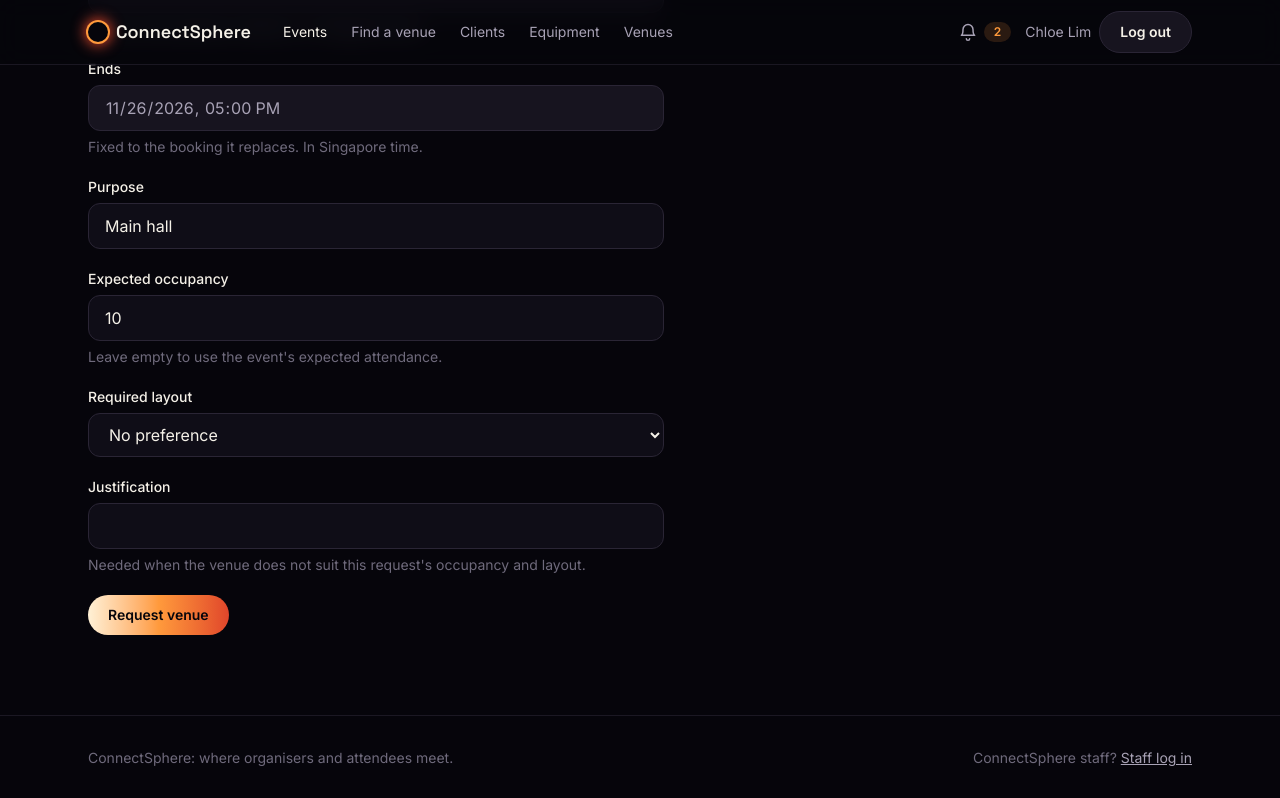
Test: SCRUM-92 raising a replacement for a flagged arrangement (AC6) › shows the backend’s own words for its 409 on the event
(page scrolled)
Click the button "Request venue": (158, 615) [88,595,229,635]
(page scrolled)
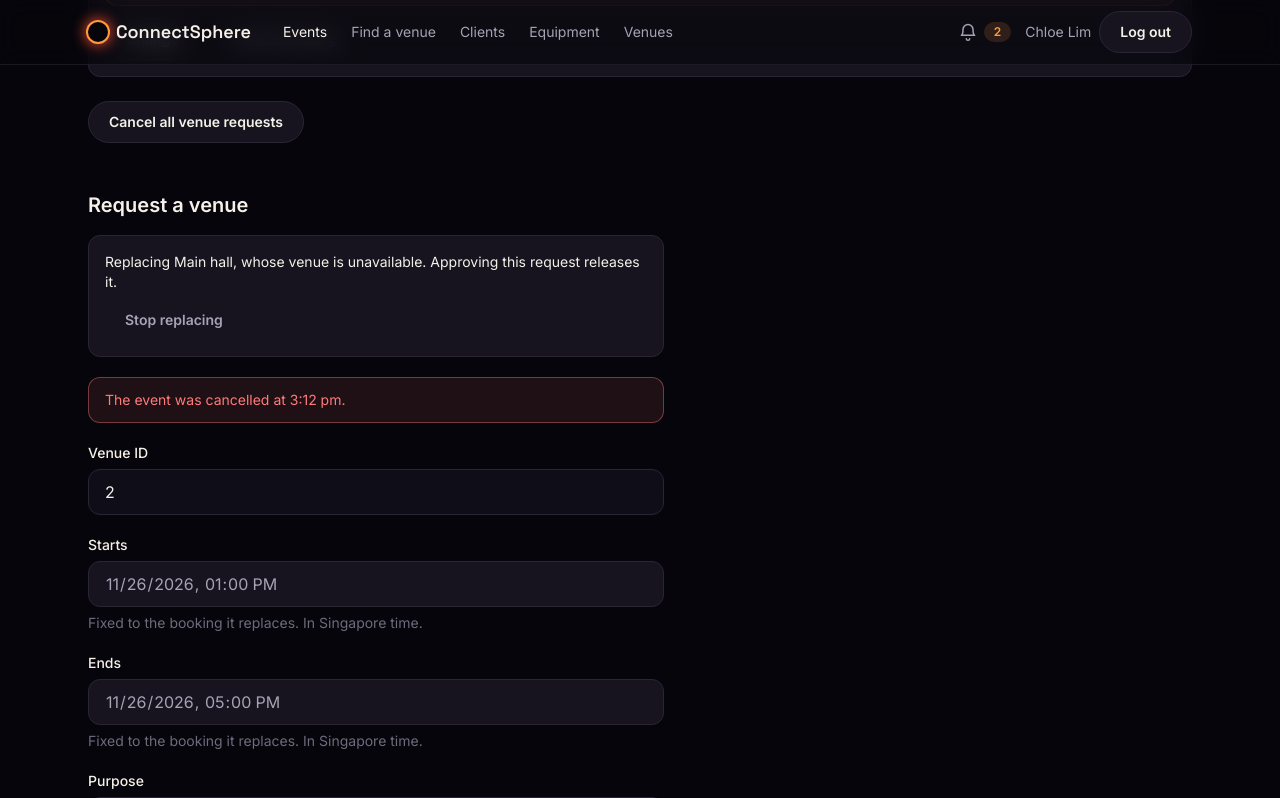
expect the text "The event was cancelled at 3:12 pm." is shown: met, box [105,391,346,408]
